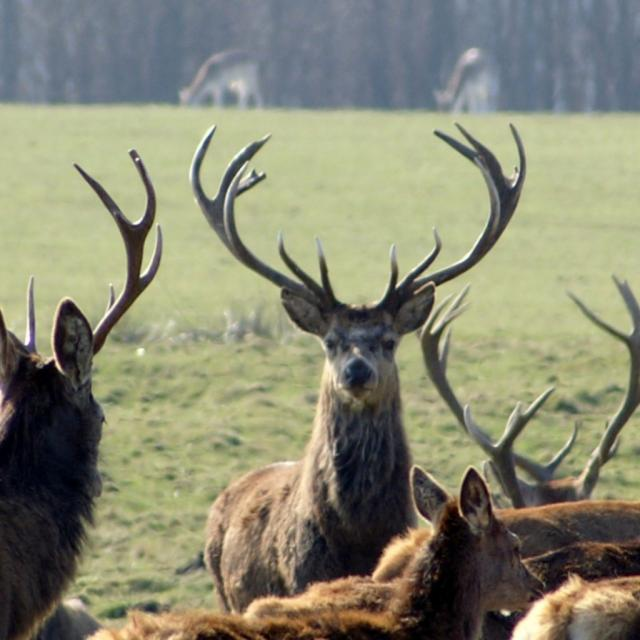Deer: (188, 115, 528, 610), (0, 121, 168, 637), (413, 274, 640, 512), (370, 492, 640, 604), (506, 556, 638, 640), (178, 48, 262, 112), (434, 45, 501, 113)
